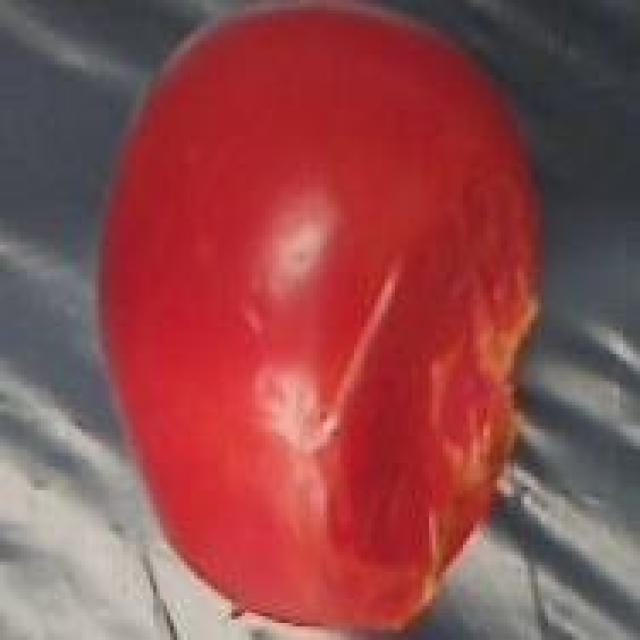overripe tomato: (96, 0, 558, 640)
